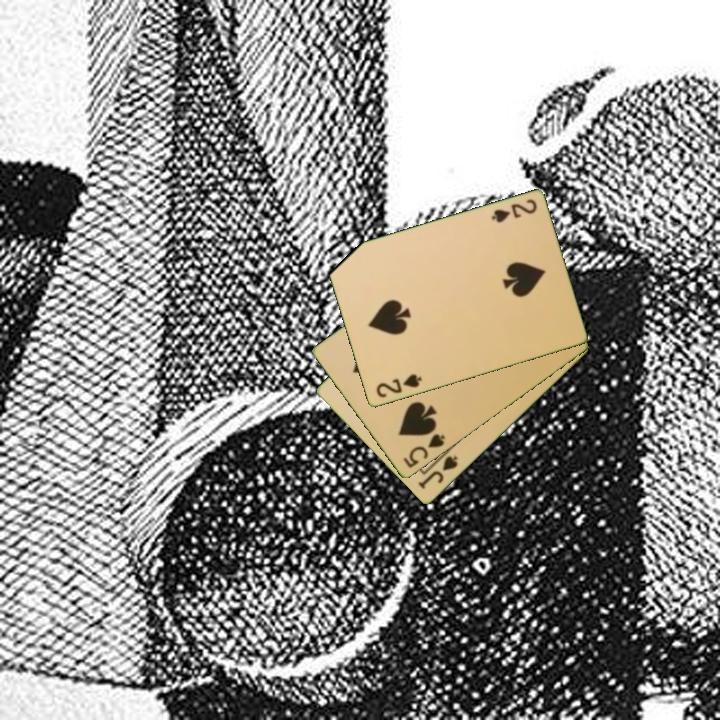2s: (372, 370, 425, 401), (487, 196, 540, 226)
5s: (400, 431, 448, 471)
Js: (414, 452, 461, 493)
